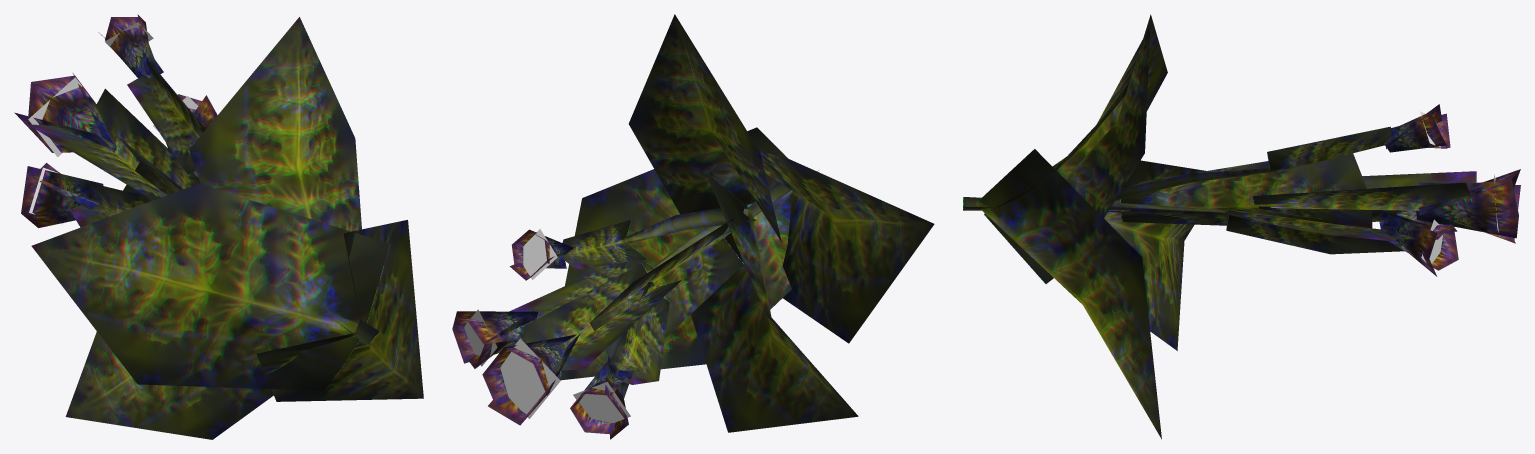
Rendered from Thistle_vcta.fbx.
The picture shows the model from 3 angles, left to right: view 1: azimuth 30°, elevation 25°; view 2: azimuth 150°, elevation 25°; view 3: azimuth 270°, elevation 25°; orthographic projection. The views are drawn at different scales.
Visible parts, largest first — view 1: Thistle; view 2: Thistle; view 3: Thistle.
Part boxes in pixels (x1,y1,x2,y2): Thistle: [14, 14, 423, 439]; Thistle: [452, 14, 934, 439]; Thistle: [963, 14, 1520, 439].
Bounding box in the file's own units: 2.41 × 2.4 × 3.28.
